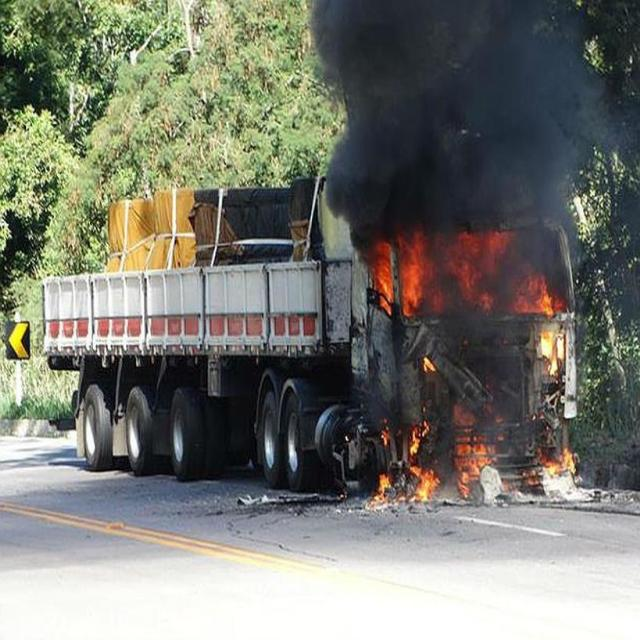Fire: (375, 226, 571, 320), (455, 405, 503, 496), (534, 441, 587, 477), (412, 466, 443, 503), (372, 470, 392, 507), (409, 423, 429, 458)
